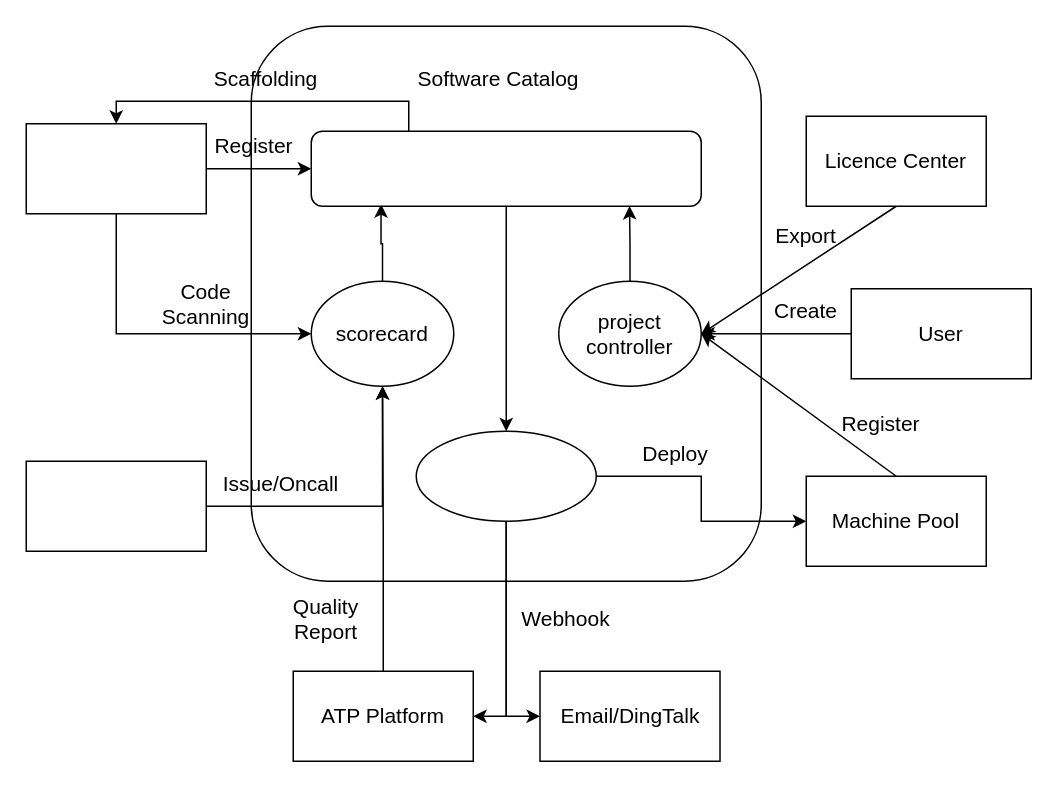
Some shapes in this 1058 by 788 pixel diagram are drawn without their labels. The centre of each missing label's shape, as x and y in pixels:
Gitlab: point 115,168
JIRA: point 115,505
Resources (recipe/buf/api/git/project/svc): point 505,168
Trigger: point 505,475
